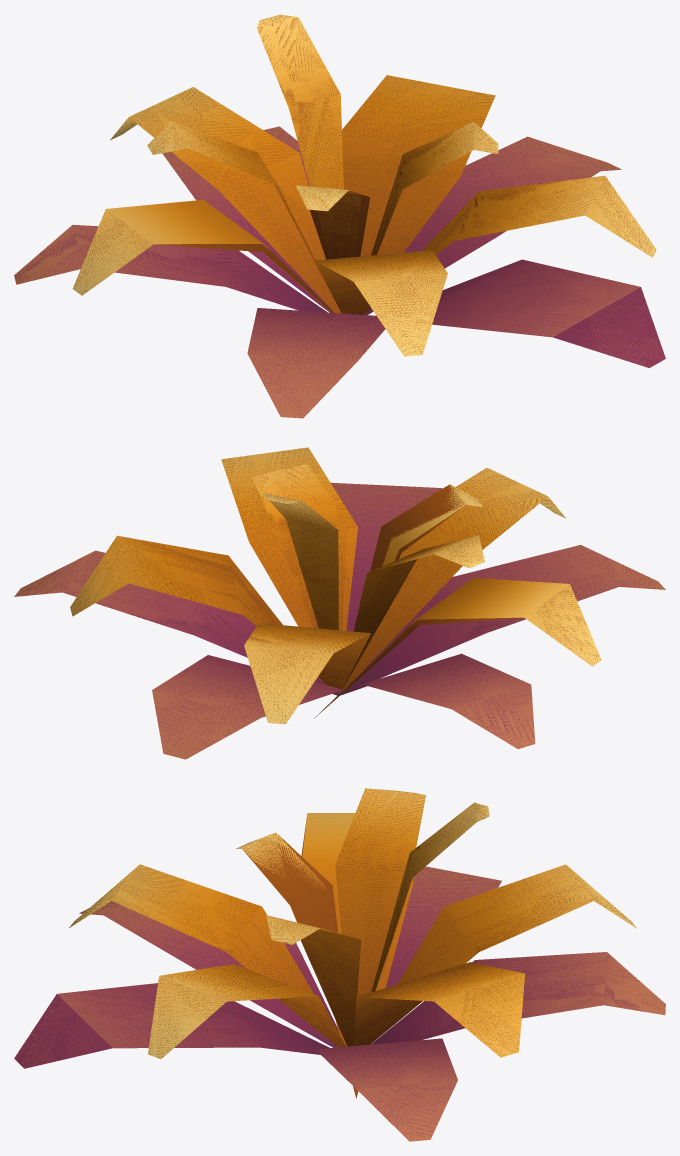
Rendered from Bush_5C.fbx.
3 views of the same model, one above another, from view 1: azimuth 30°, elevation 25°; view 2: azimuth 150°, elevation 25°; view 3: azimuth 270°, elevation 25° (orthographic). The views are drawn at different scales.
Parts seen in each view (by area): view 1: Bush_5C; view 2: Bush_5C; view 3: Bush_5C.
Part boxes in pixels (bbox=[...]): Bush_5C: bbox=[14, 14, 665, 418]; Bush_5C: bbox=[14, 447, 665, 759]; Bush_5C: bbox=[14, 788, 665, 1141].
Bounding box in the file's own units: 1.06 × 0.5056 × 1.1.
